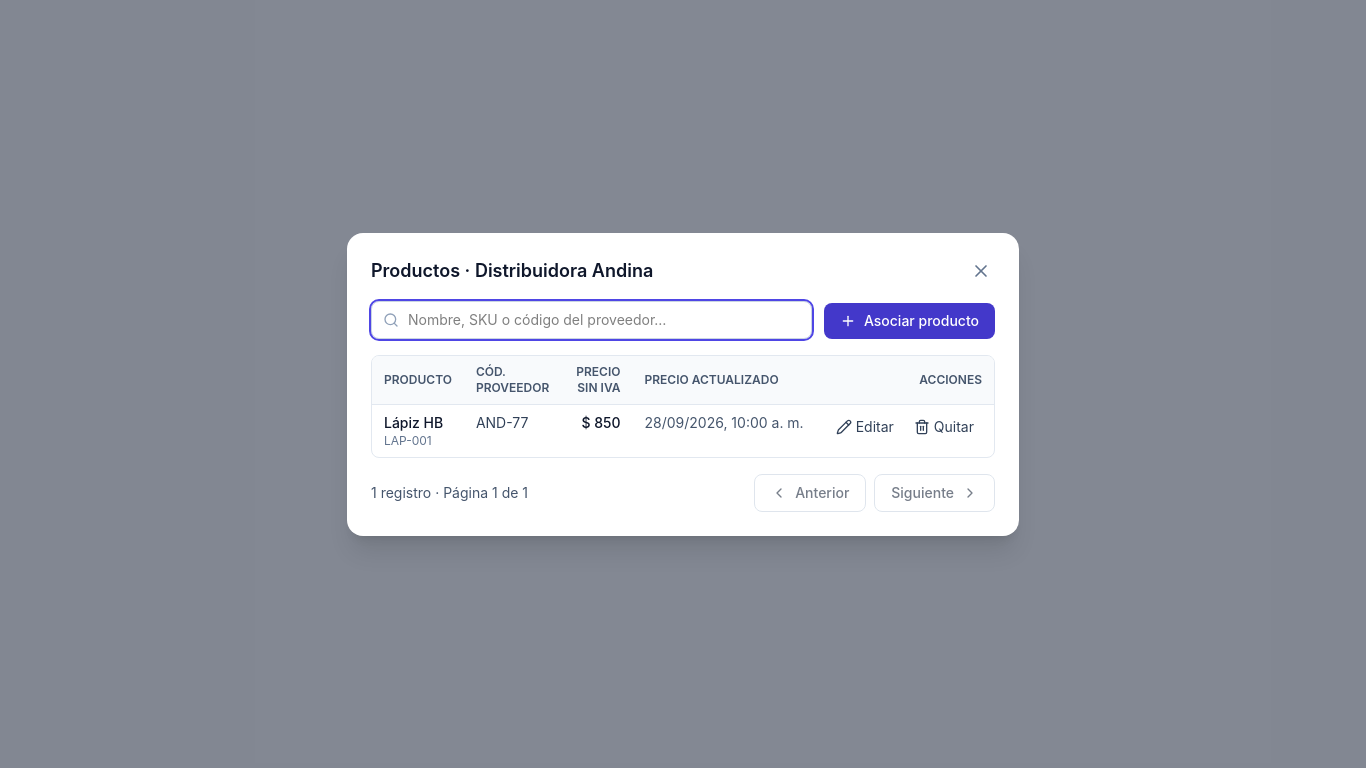
Test: SupplierProductsModal › rejects prices with thousands separators
Click the button "Editar" at (865, 426), box [828,412,902,440]
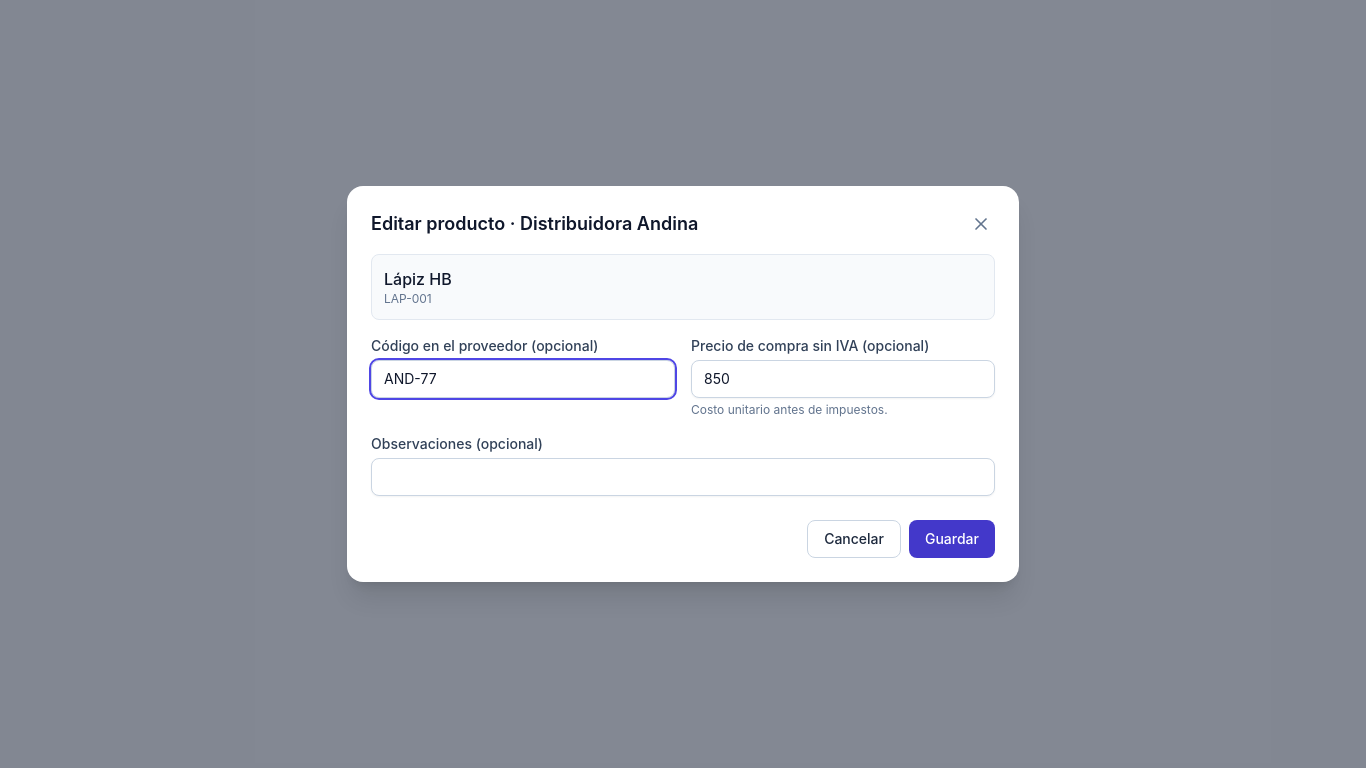
Result: the field labelled "Precio de compra sin IVA (opcional)" holds "850"
Replace the text in the field labelled "Precio de compra sin IVA (opcional)" with "1.800" at (843, 379), box [691,360,995,398]
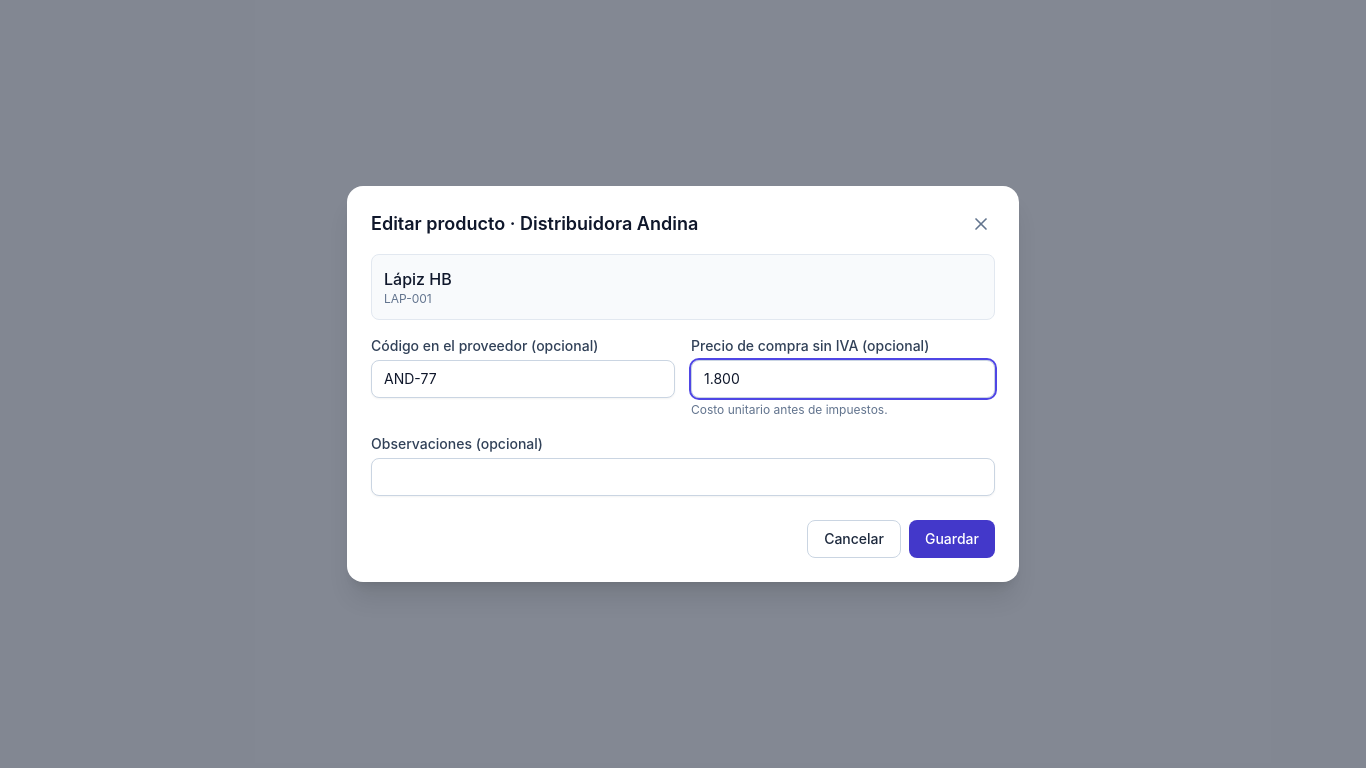
Click the button "Guardar" at (952, 539), box [909,520,995,558]
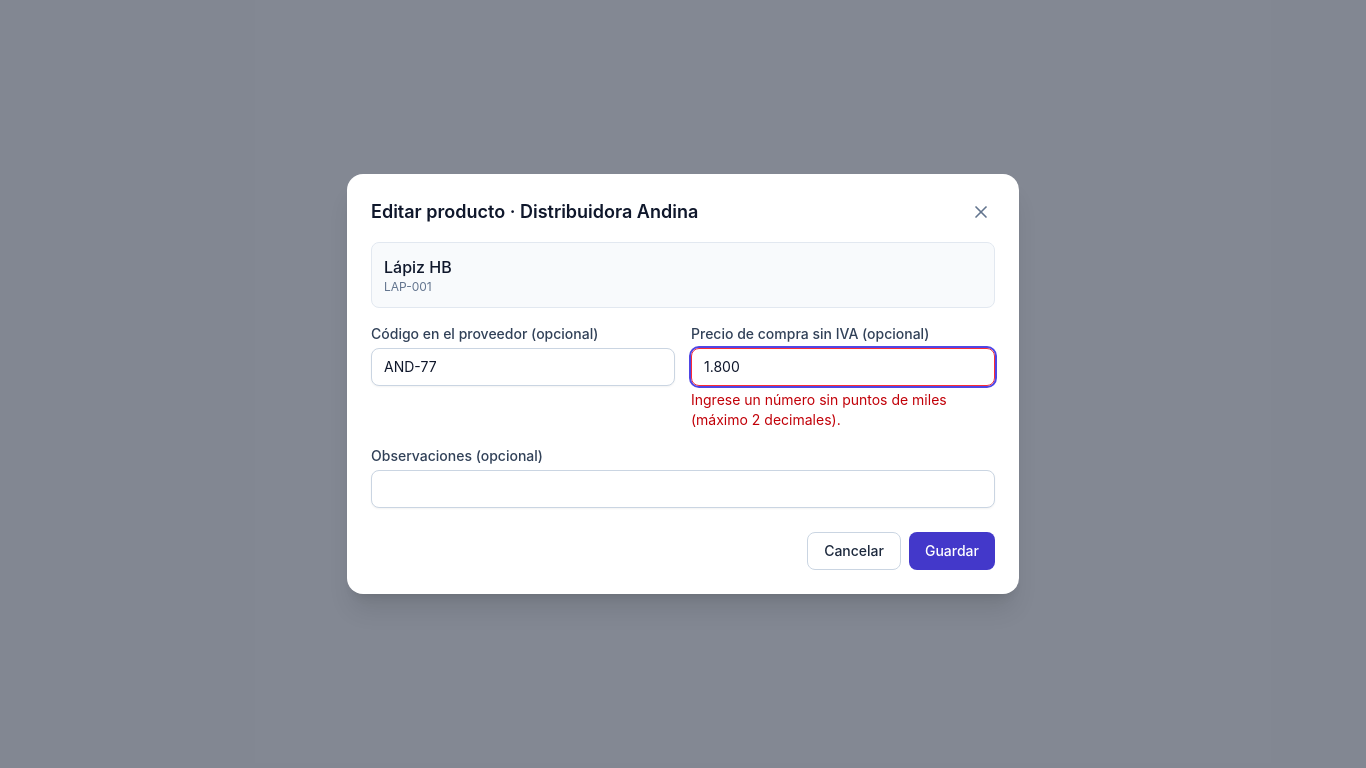
Result: the text "Ingrese un número sin puntos de miles (máximo 2 decimales)." is shown at [691,391,947,428]
